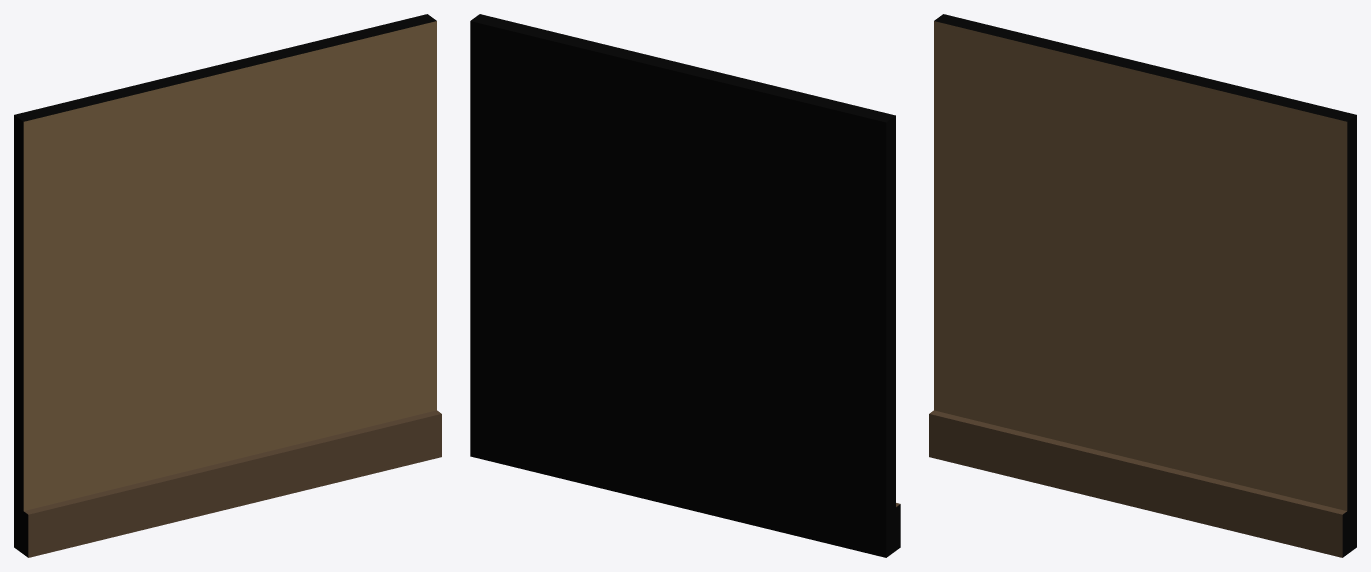
File: M_Wall_Big_BorderDown.fbx
The picture shows the model from 3 angles, left to right: view 1: azimuth 30°, elevation 25°; view 2: azimuth 150°, elevation 25°; view 3: azimuth 330°, elevation 25°; orthographic projection.
Parts seen in each view (by area): view 1: M_Wall_Big_BorderDown; view 2: M_Wall_Big_BorderDown; view 3: M_Wall_Big_BorderDown.
Boxes of the visible parts, box(x1,y1,x2,y2) form: M_Wall_Big_BorderDown: box(14, 14, 441, 557); M_Wall_Big_BorderDown: box(470, 14, 900, 557); M_Wall_Big_BorderDown: box(929, 14, 1356, 557).
Size of the model in its own units: 500 by 500 by 30.
